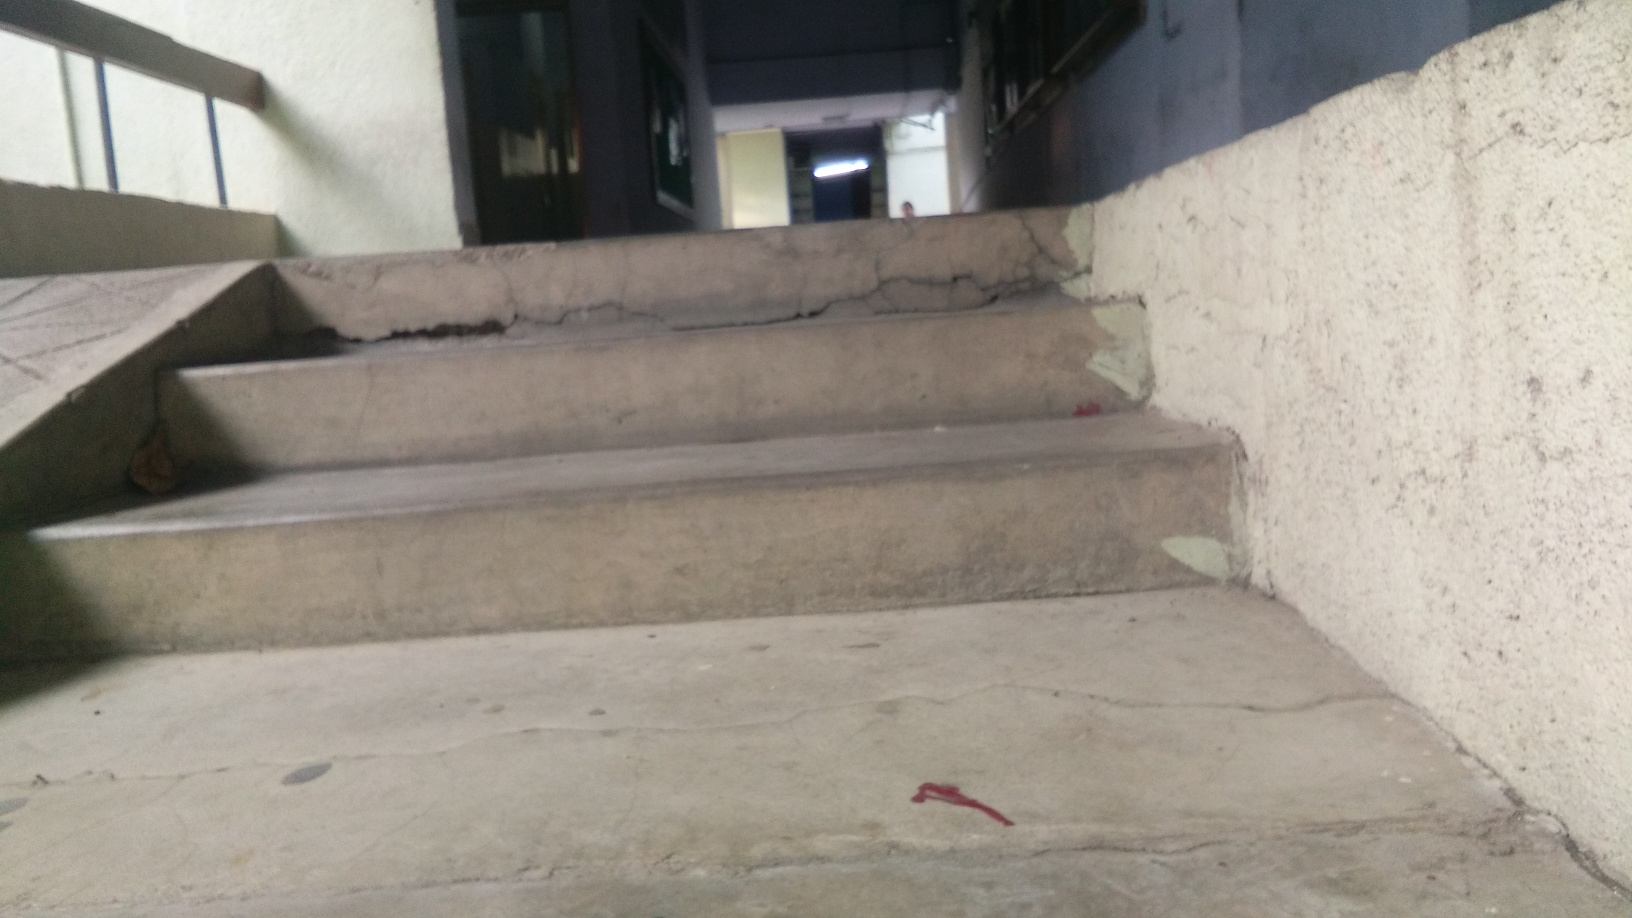stairs_up: (46, 228, 1276, 699)
